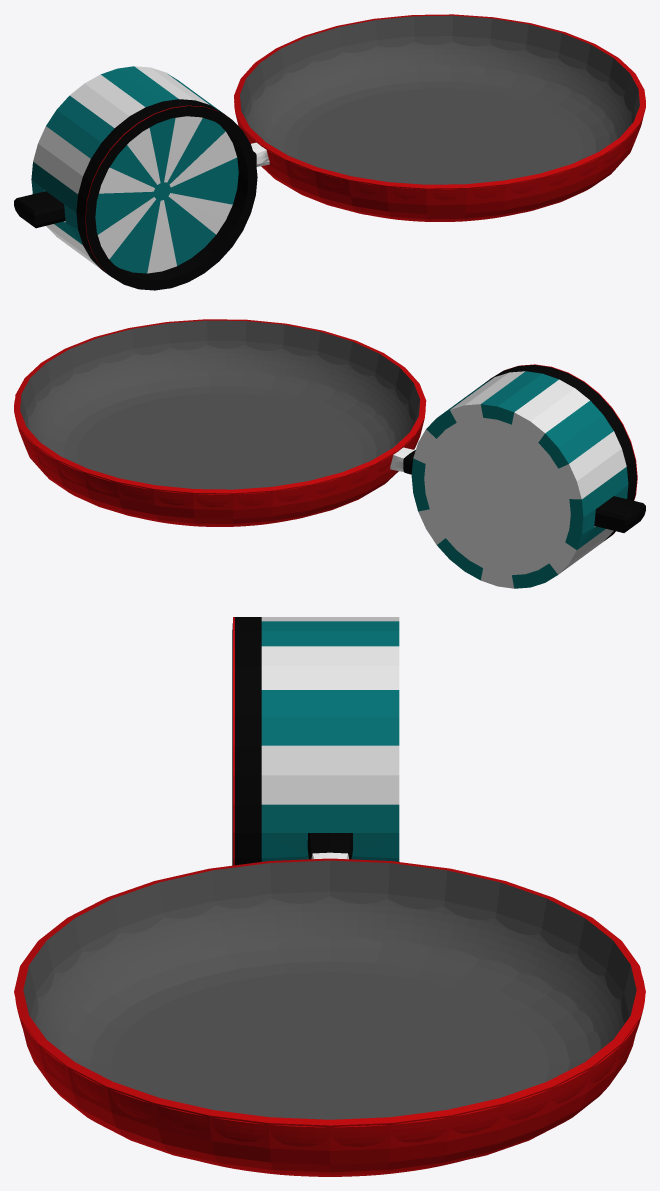
Rendered from frying_pan_attachment_2.dae.
3 views of the same model, one above another, from view 1: azimuth 30°, elevation 25°; view 2: azimuth 150°, elevation 25°; view 3: azimuth 270°, elevation 25° (orthographic). The views are drawn at different scales.
Visible parts, largest first — view 1: Sphere_Sphere.002, Circle, Sphere_Sphere.001; view 2: Sphere_Sphere.002, Circle, Sphere_Sphere.001; view 3: Sphere_Sphere.002, Circle, Sphere_Sphere.001.
Boxes of the visible parts, bbox=[...] form: Sphere_Sphere.002: bbox=[14, 14, 645, 228]; Circle: bbox=[31, 66, 257, 290]; Sphere_Sphere.001: bbox=[234, 41, 645, 221]; Sphere_Sphere.002: bbox=[14, 319, 645, 532]; Circle: bbox=[411, 364, 637, 588]; Sphere_Sphere.001: bbox=[14, 345, 425, 526]; Sphere_Sphere.002: bbox=[14, 833, 645, 1176]; Circle: bbox=[232, 617, 399, 865]; Sphere_Sphere.001: bbox=[15, 896, 645, 1176].
Size of the model in its own units: 0.2605 by 0.1563 by 0.0751.
